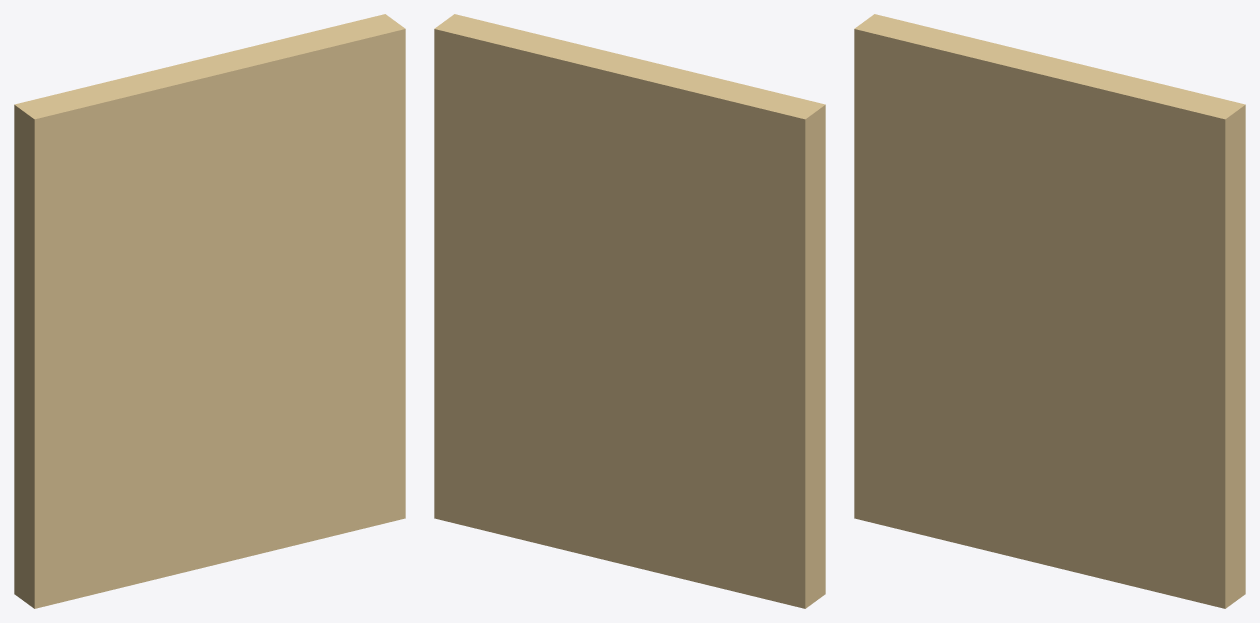
The model's file is original-2.obj.
The picture shows the model from 3 angles, left to right: view 1: azimuth 30°, elevation 25°; view 2: azimuth 150°, elevation 25°; view 3: azimuth 330°, elevation 25°; orthographic projection.
Parts seen in each view (by area): view 1: #ID13; view 2: #ID13; view 3: #ID13.
Boxes of the visible parts, x1,y1,x2,y2 form: #ID13: (14, 14, 405, 608); #ID13: (434, 14, 825, 608); #ID13: (854, 14, 1245, 608).
Size of the model in its own units: 1.25 by 1.58 by 0.1191.
